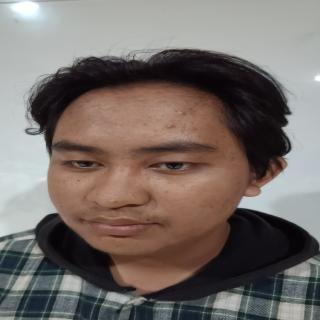Netral: (44, 75, 248, 262)
